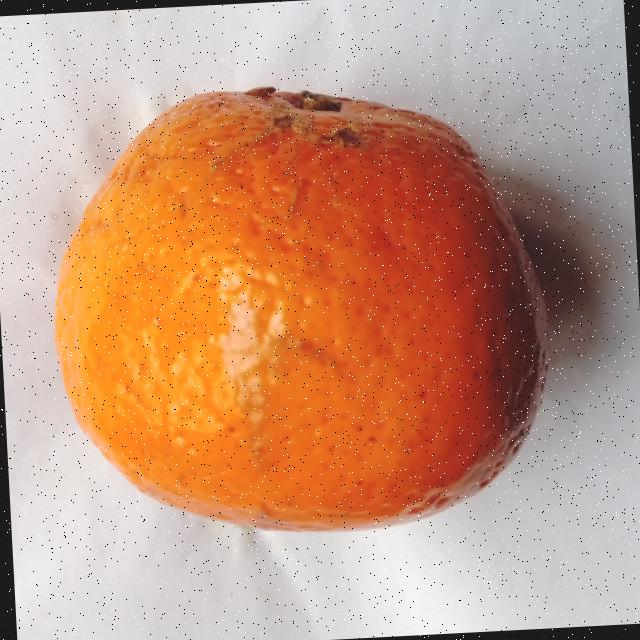overripe: (38, 58, 574, 554)
